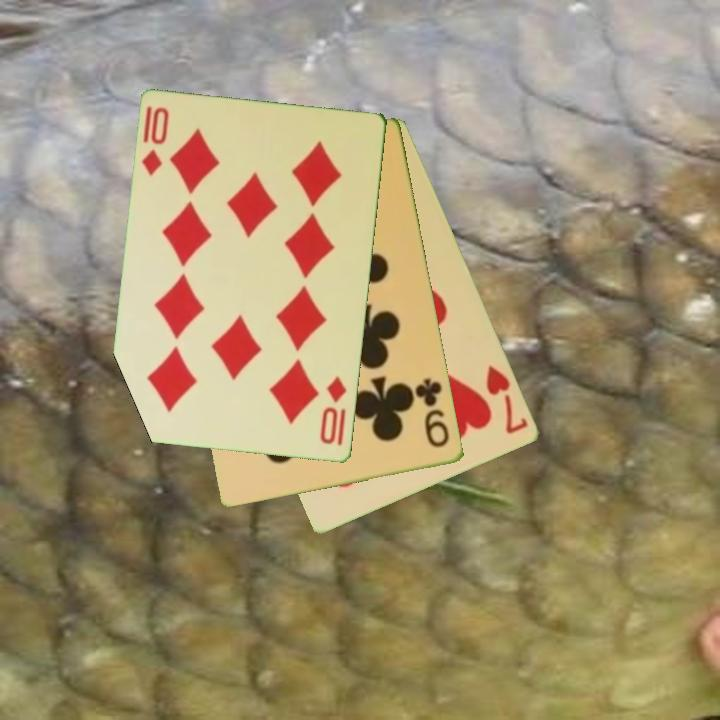10d: (317, 373, 350, 450), (139, 103, 172, 179)
7h: (483, 361, 531, 437)
9c: (412, 375, 453, 451)
